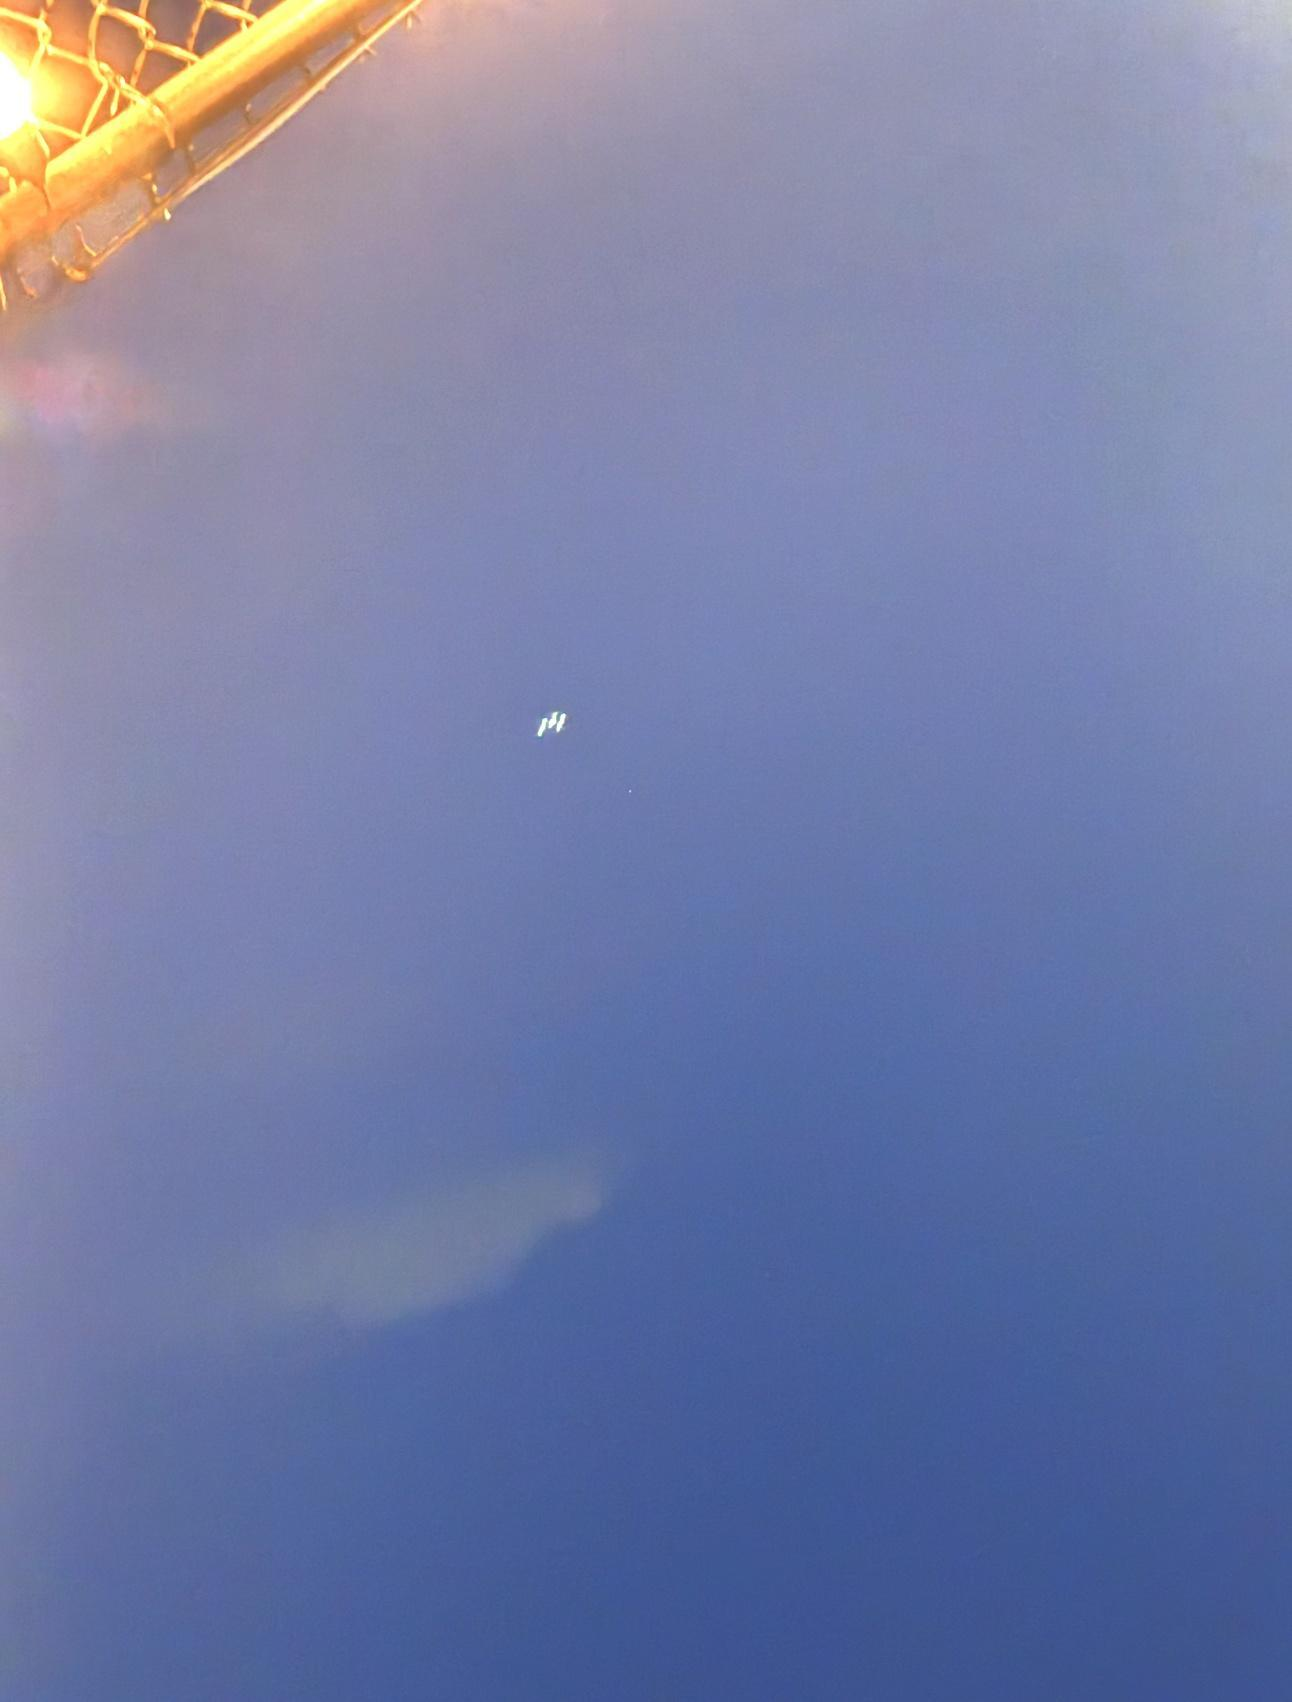Plane: (514, 694, 589, 753)
